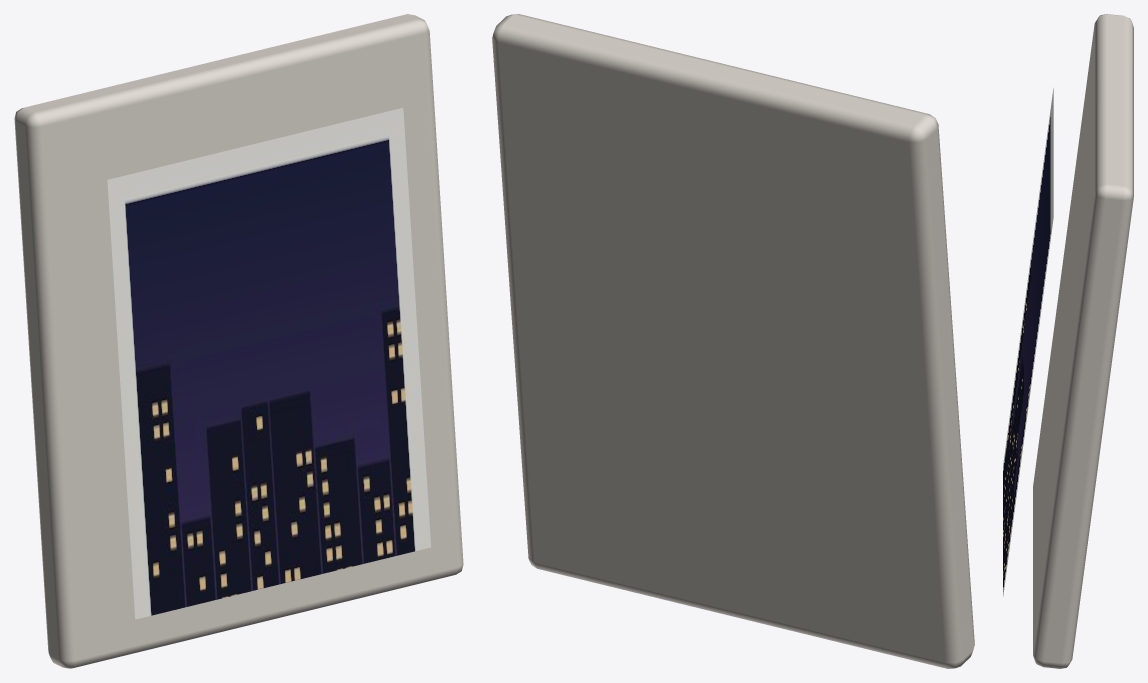
Rendered from photo_frame_trinket_shelf.fbx.
3 renders of one model, left to right at view 1: azimuth 30°, elevation 25°; view 2: azimuth 150°, elevation 25°; view 3: azimuth 270°, elevation 25°, orthographic. The views are drawn at different scales.
Parts seen in each view (by area): view 1: photo_frame_trinket_shelf; view 2: photo_frame_trinket_shelf; view 3: photo_frame_trinket_shelf.
Boxes of the visible parts, bbox=[...] form: photo_frame_trinket_shelf: bbox=[14, 14, 463, 668]; photo_frame_trinket_shelf: bbox=[492, 14, 974, 668]; photo_frame_trinket_shelf: bbox=[1003, 14, 1133, 668].
Size of the model in its own units: 0.15 by 0.1894 by 0.0463.
